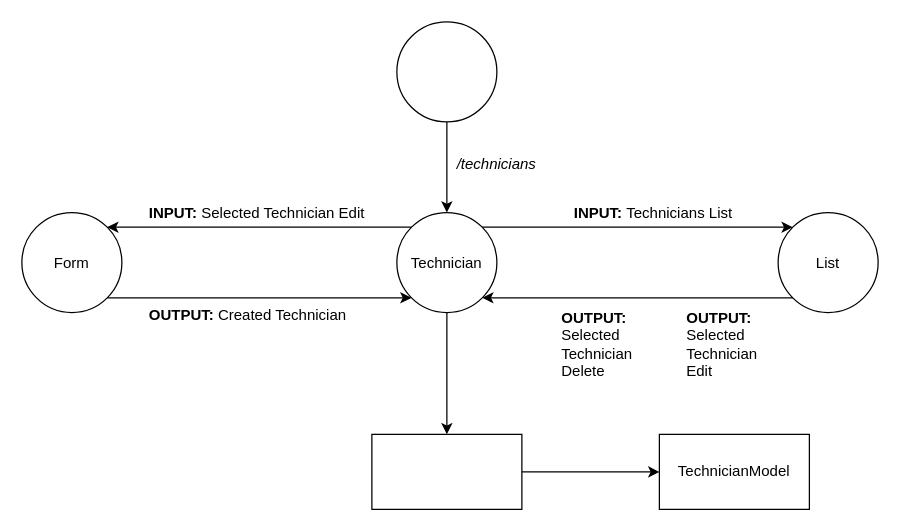
Image size: 900x531. Some labels were removed from this diagram. The centre of each missing label's shape, as x and y in pixels:
"AppModule" goes at point (446, 71).
"TechnicianServices" goes at point (446, 471).
